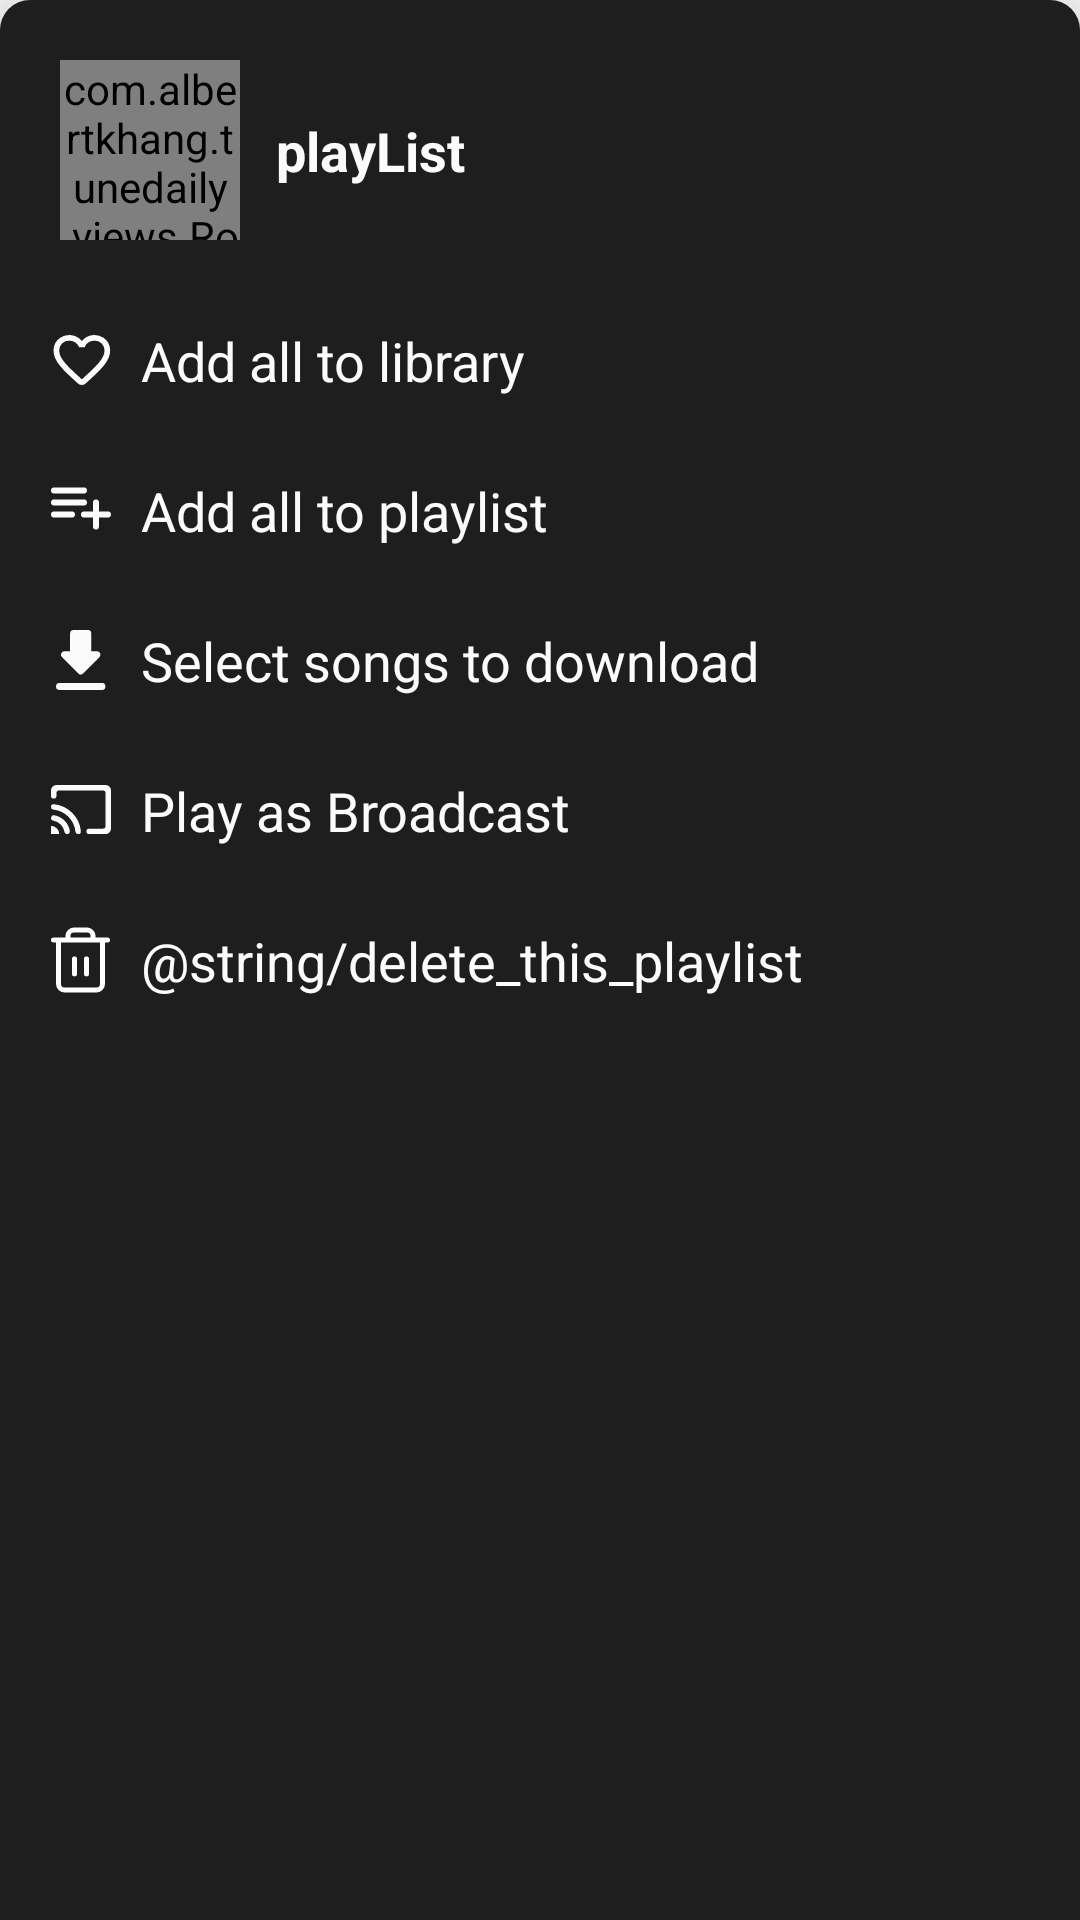

Screen size 1080 × 1920. Icon name, then its center in pixels as (x,y):
not favourite: (82,360)
